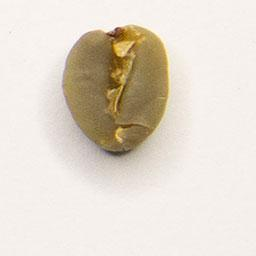premium: (58, 21, 173, 157)
